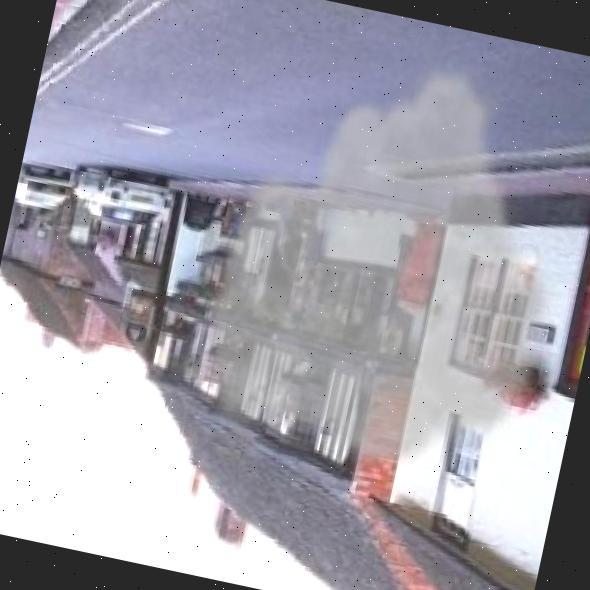smoke: (165, 27, 590, 532)
